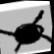not correct: (0, 6, 54, 54)
